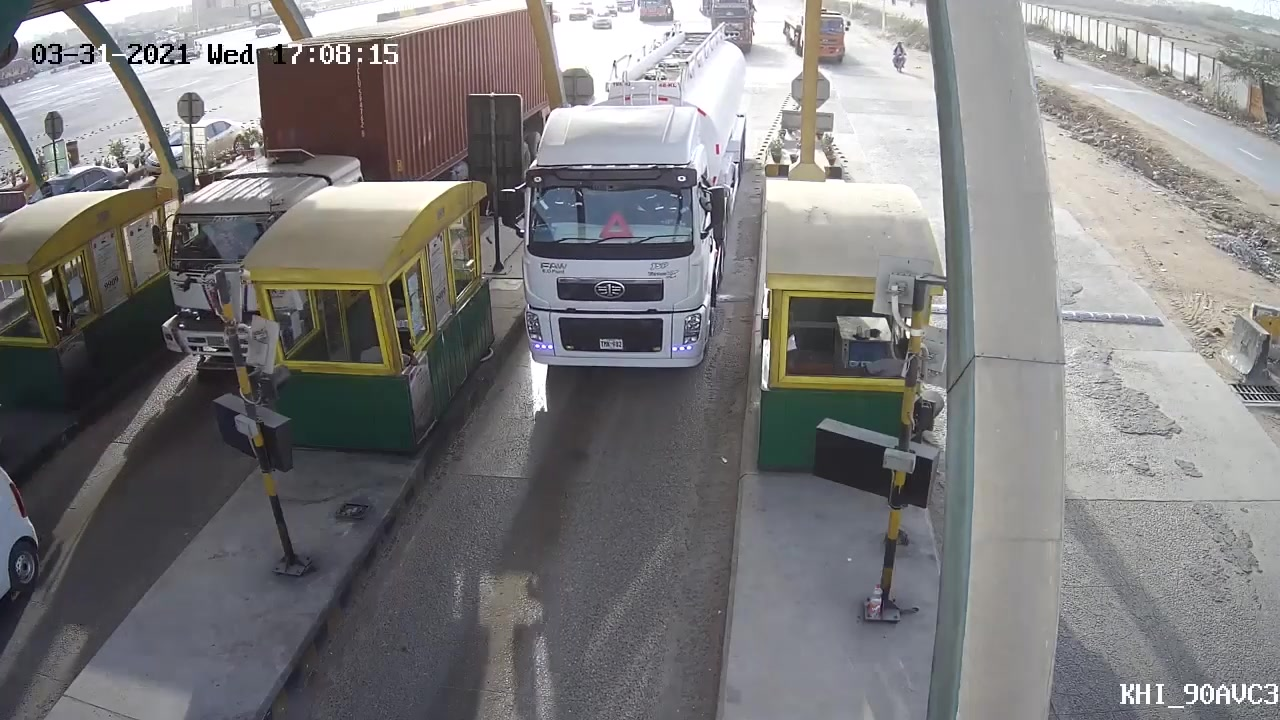F5: (494, 30, 747, 398)
